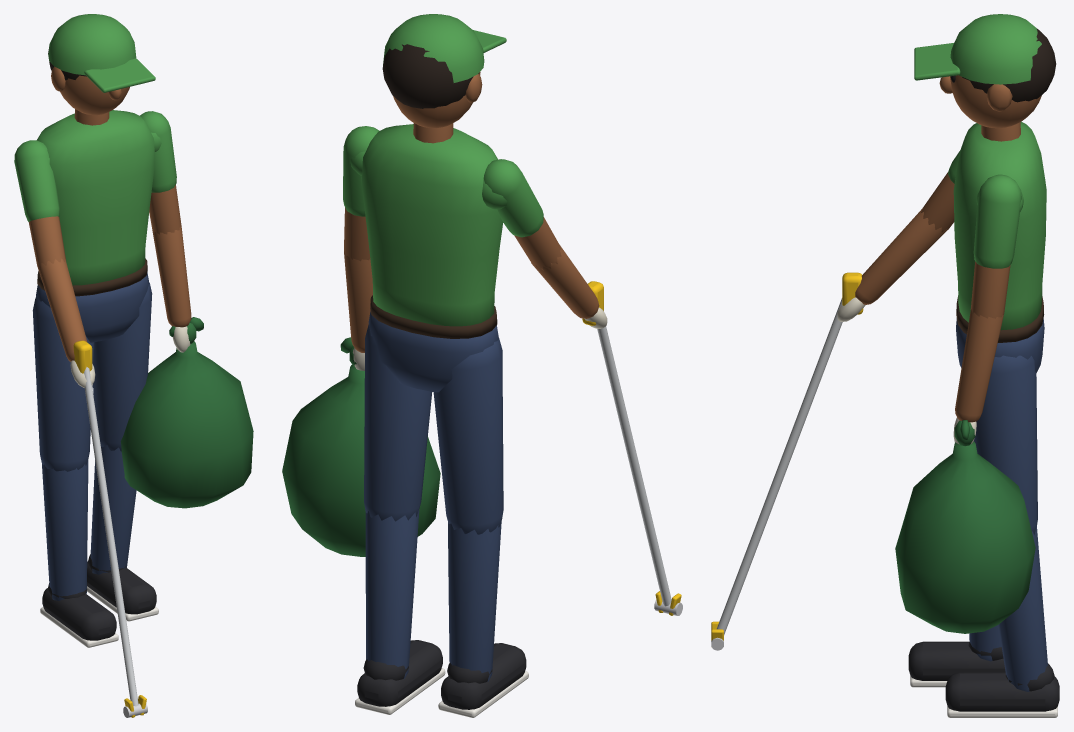
File: volunteer_green.fbx
3 renders of one model, left to right at view 1: azimuth 30°, elevation 25°; view 2: azimuth 150°, elevation 25°; view 3: azimuth 270°, elevation 25°, orthographic. The views are drawn at different scales.
Visible parts, largest first — view 1: volunteer_green; view 2: volunteer_green; view 3: volunteer_green.
Part boxes in pixels (x1=…): volunteer_green: x1=14, y1=14, x2=253, y2=717; volunteer_green: x1=282, y1=14, x2=682, y2=717; volunteer_green: x1=711, y1=14, x2=1059, y2=717.
Size of the model in its own units: 0.709 by 1.76 by 0.8247.
